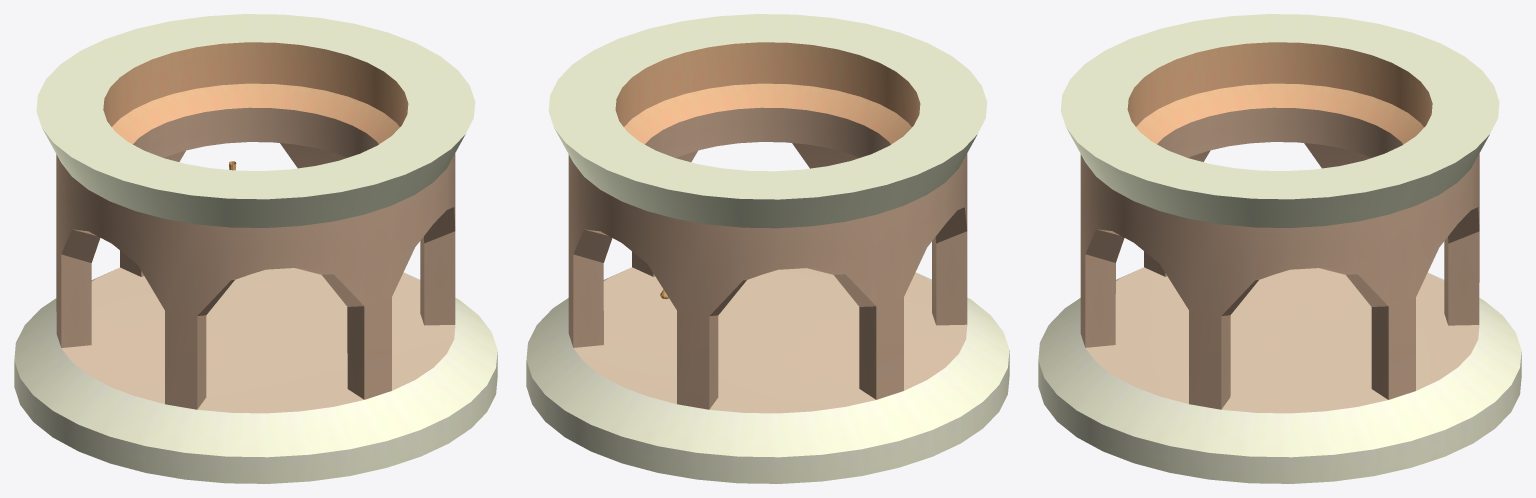
File: dau_pisa.fbx
The picture shows the model from 3 angles, left to right: view 1: azimuth 30°, elevation 25°; view 2: azimuth 150°, elevation 25°; view 3: azimuth 270°, elevation 25°; orthographic projection.
Parts seen in each view (by area): view 1: dau_Pisa; view 2: dau_Pisa; view 3: dau_Pisa.
Part boxes in pixels (<box>): dau_Pisa: <box>14,14,497,483</box>; dau_Pisa: <box>526,14,1009,483</box>; dau_Pisa: <box>1038,14,1521,483</box>.
Bounding box in the file's own units: 837 × 526 × 837.
